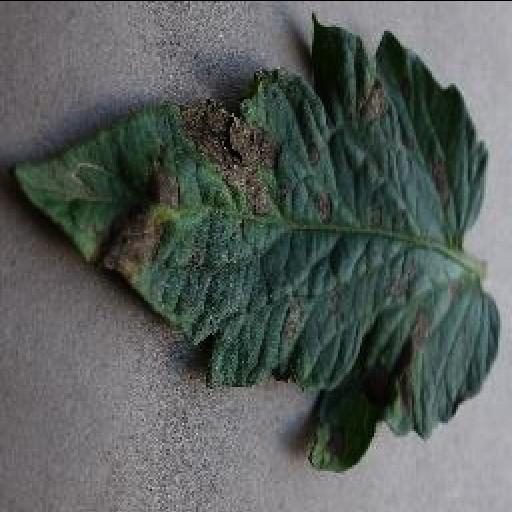disease_tomato: (12, 12, 498, 468)
